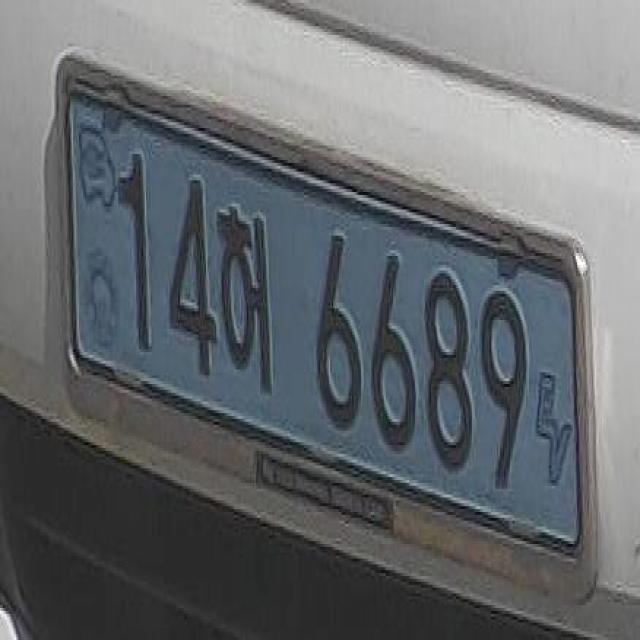EV_plate: (55, 72, 599, 580)
